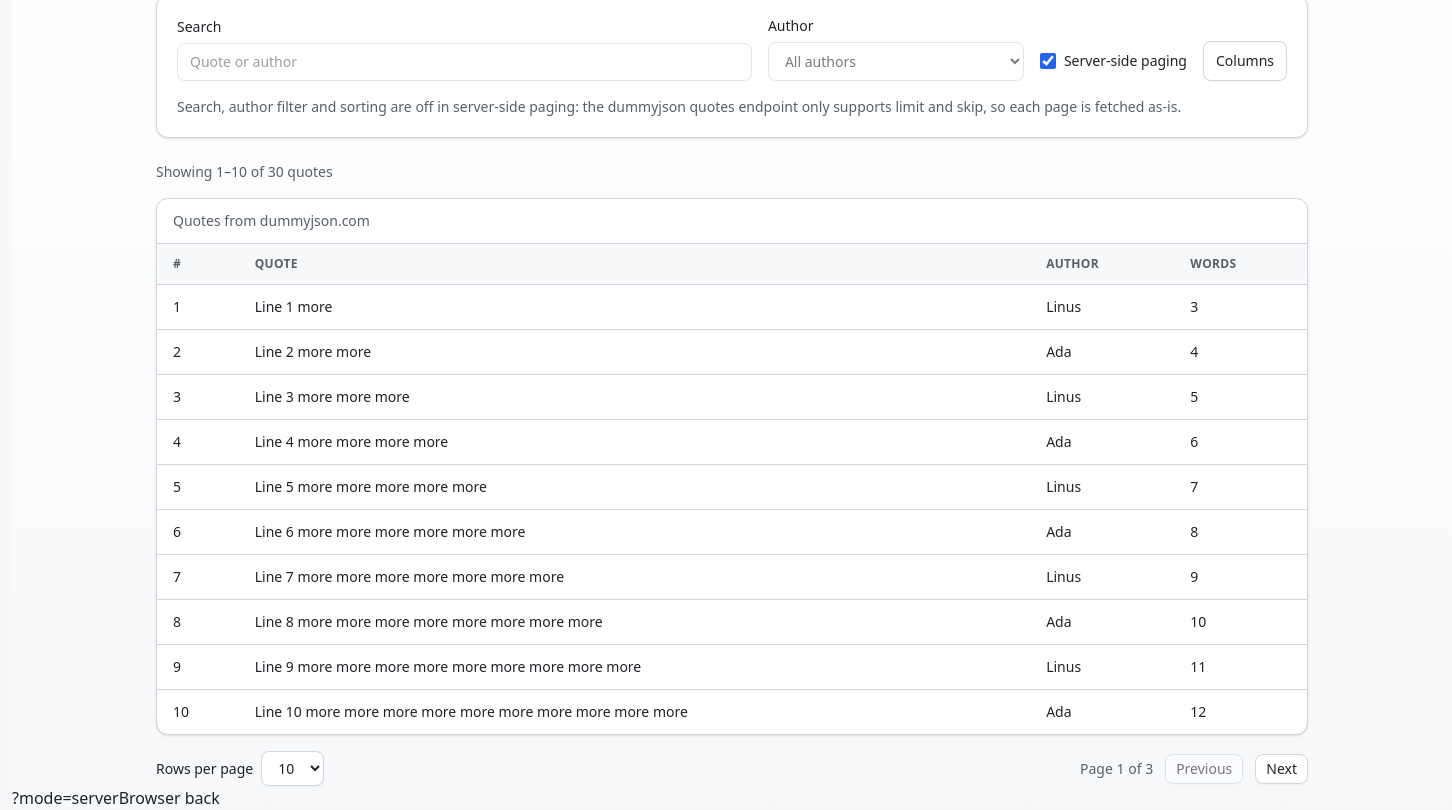
it: QuotesTablePage in server-side mode › fetches each page with limit and skip
(page scrolled)
Expected: the text "Page 1 of 3" is shown, [1080,758,1153,778]
Expected: the search field labelled "Search" is disabled, [177,43,752,81]
Click the button "Next" at (1282, 768), box [1255,754,1308,784]
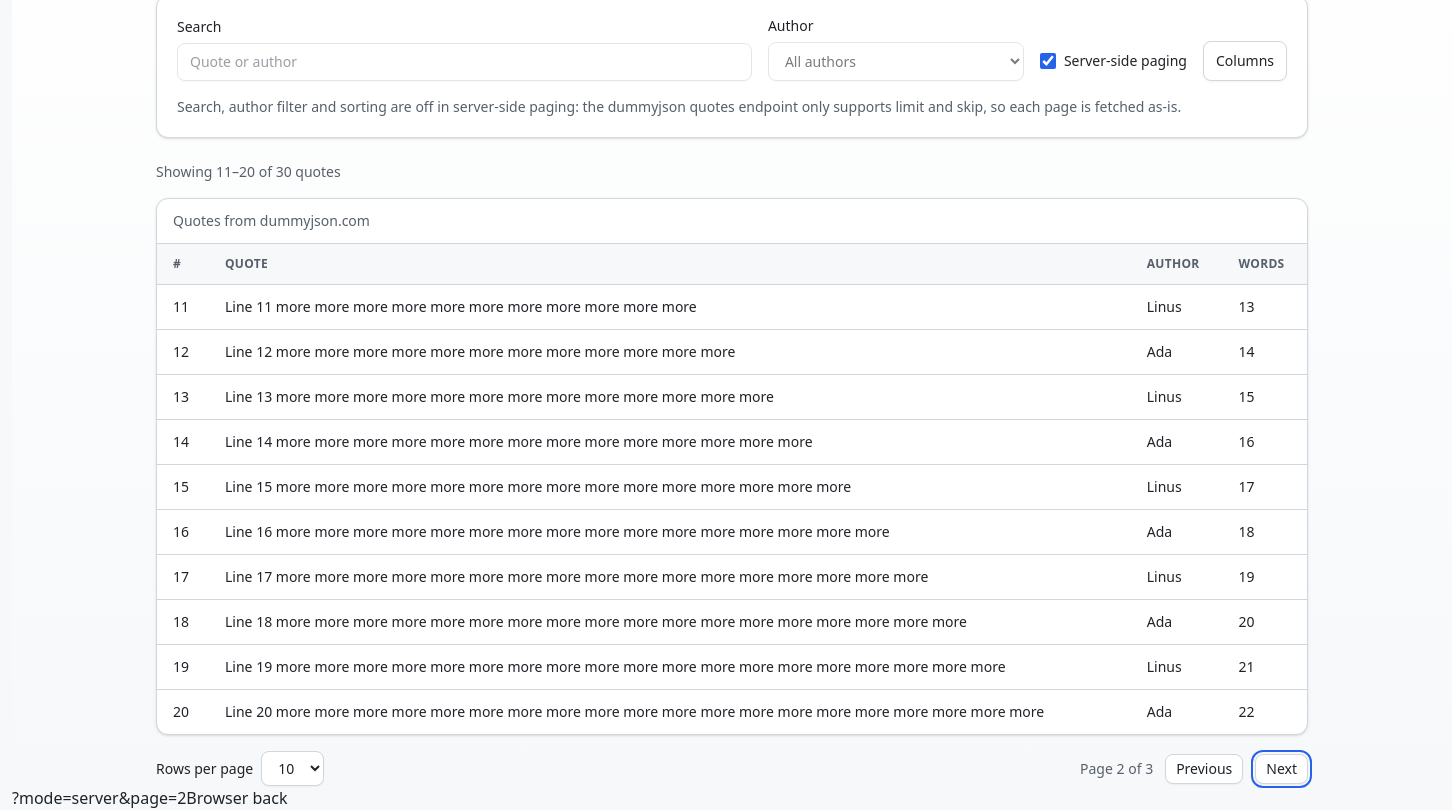
Result: the text "Showing 11–20 of 30 quotes" is shown at [156,162,341,181]
